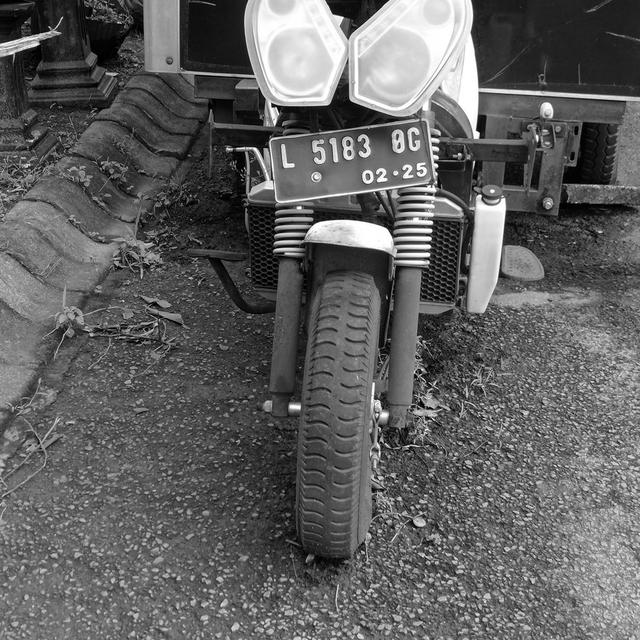license: (276, 121, 428, 187)
